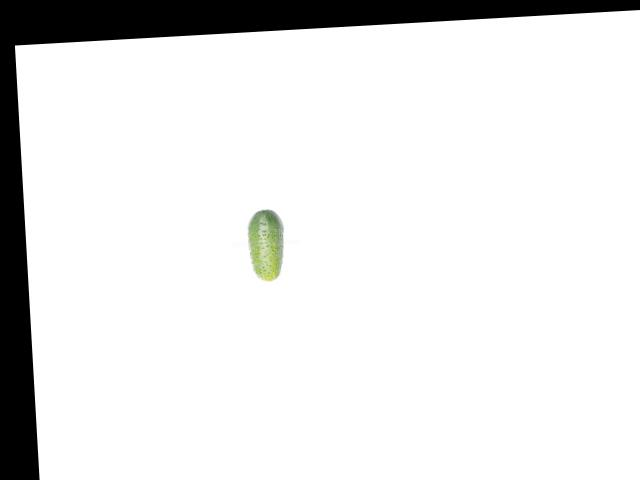cucumber: (245, 208, 286, 282)
